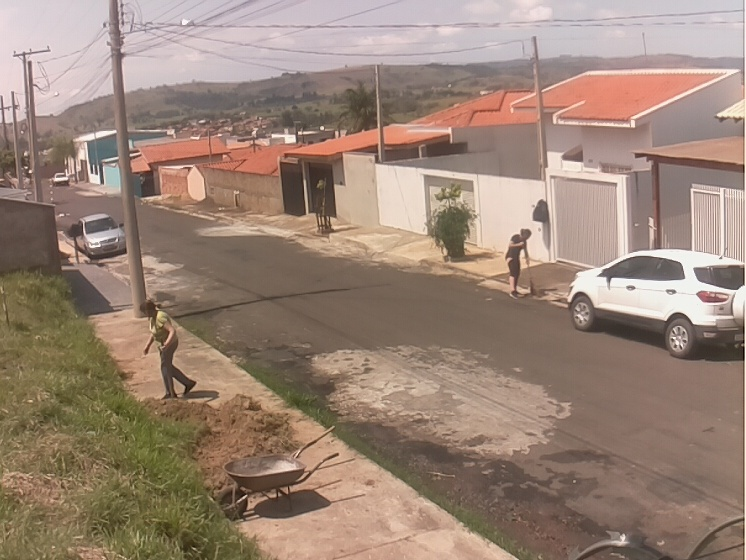person: (139, 299, 196, 402), (505, 227, 533, 301)
